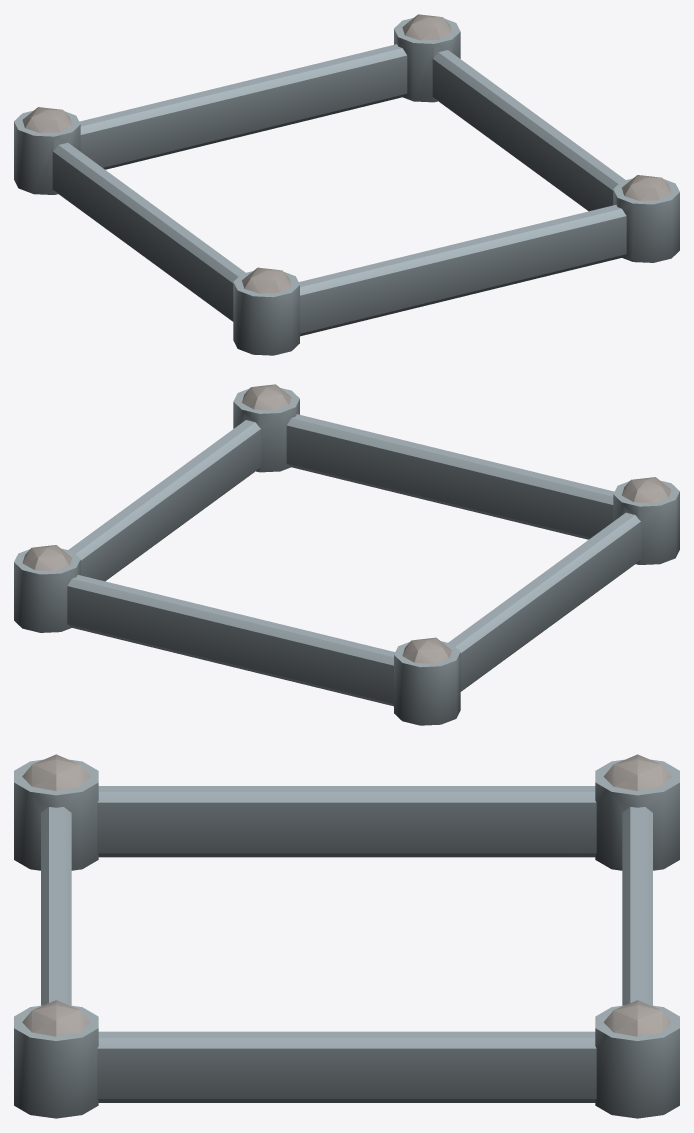
The model's file is pressure_plate_frame.glb.
The picture shows the model from 3 angles, top to bottom: view 1: azimuth 30°, elevation 25°; view 2: azimuth 150°, elevation 25°; view 3: azimuth 270°, elevation 25°; orthographic projection. The views are drawn at different scales.
Parts seen in each view (by area): view 1: pressure_plate_frame; view 2: pressure_plate_frame; view 3: pressure_plate_frame.
Boxes of the visible parts, left/top/right/bottom form: pressure_plate_frame: left=14, top=14, right=679, bottom=355; pressure_plate_frame: left=14, top=384, right=679, bottom=725; pressure_plate_frame: left=14, top=754, right=679, bottom=1118.
Bounding box in the file's own units: 1.96 × 0.305 × 1.95.
Materials: 1 (1 with a texture image).
